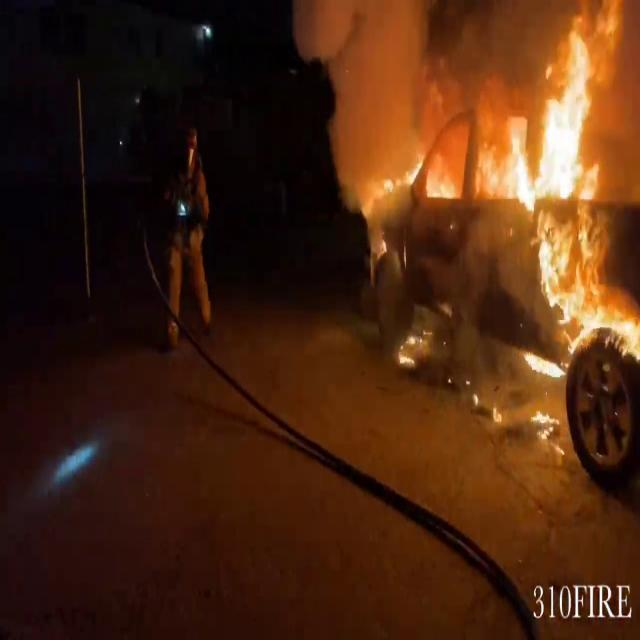Fire: (482, 5, 640, 379)
Smoke: (292, 1, 504, 181)
